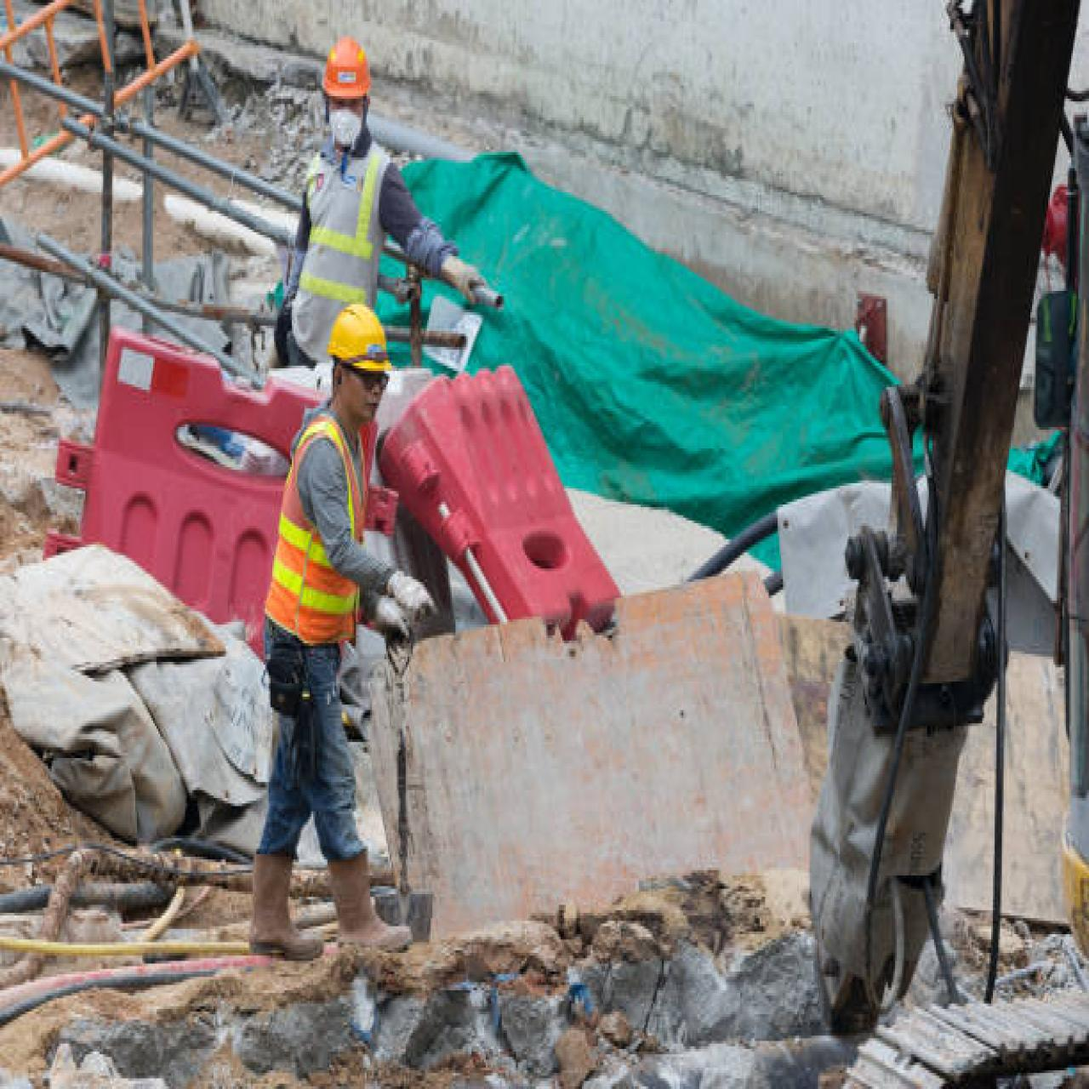NO_Safety_Vest: (296, 132, 404, 361)
Person: (206, 282, 459, 1002), (260, 17, 495, 393)
Safety_Vest: (256, 412, 385, 682)
